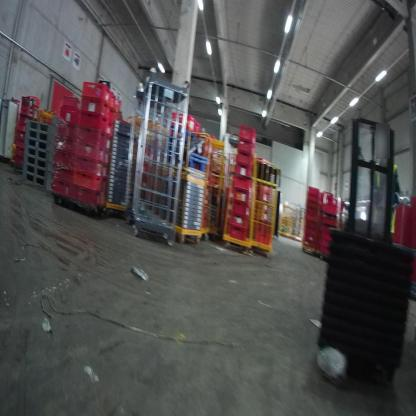pallet_truck: (318, 104, 412, 400)
